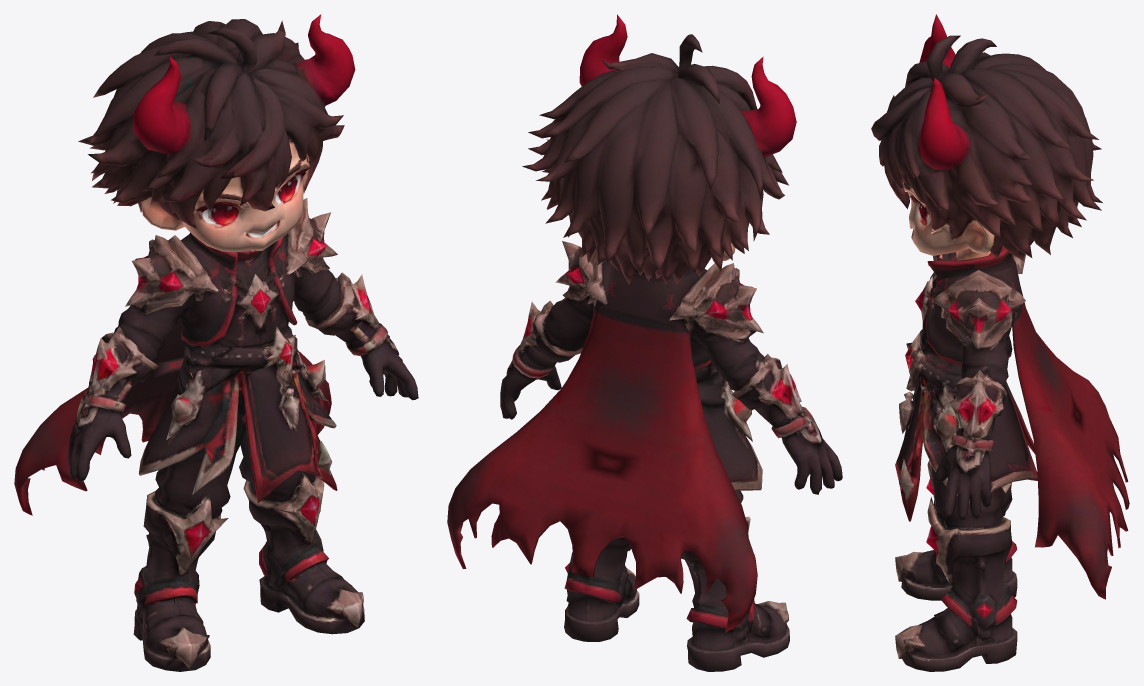
Rendered from Costume_HornsArcherM.glb.
3 views of the same model, side by side, from view 1: azimuth 30°, elevation 25°; view 2: azimuth 150°, elevation 25°; view 3: azimuth 270°, elevation 25° (orthographic). The views are drawn at different scales.
Visible parts, largest first — view 1: Body, Head; view 2: Body, Head; view 3: Body, Head.
Part boxes in pixels (box(x1,y1,x2,y2)): Body: box(14, 264, 418, 671); Head: box(78, 14, 355, 314); Body: box(447, 291, 842, 671); Head: box(522, 14, 796, 338); Body: box(895, 286, 1129, 671); Head: box(871, 14, 1102, 349).
Size of the model in its own units: 0.5715 by 0.9768 by 0.3957.
2 materials, 2 textured.
